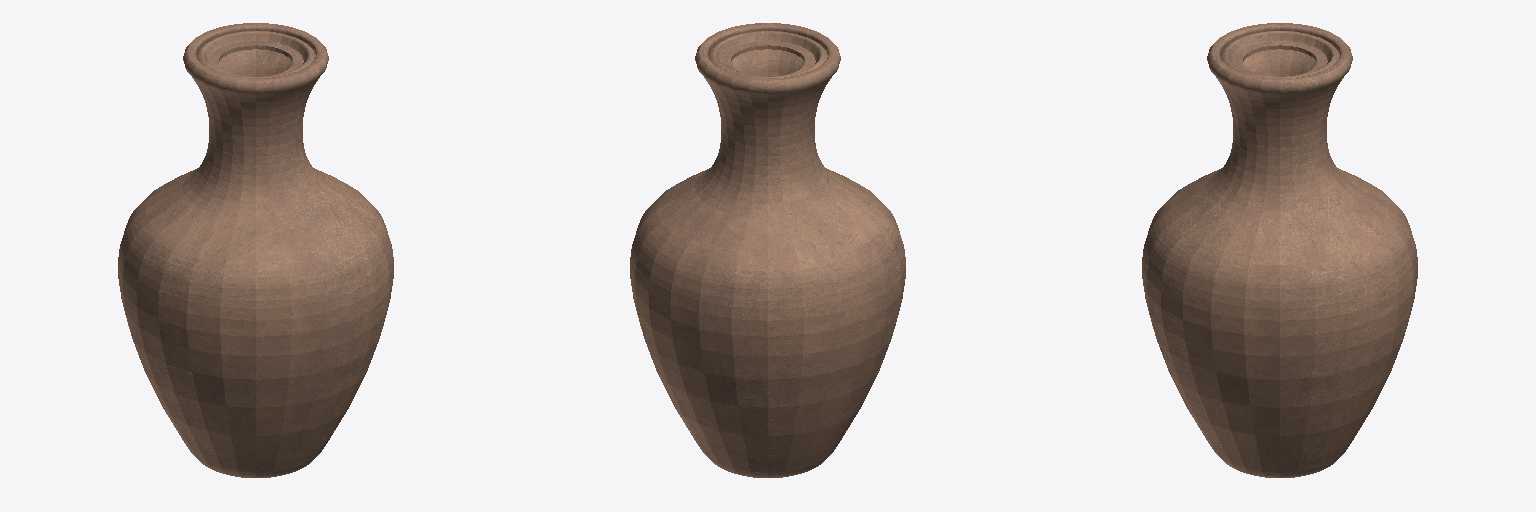
3 views of the same model, side by side, from view 1: azimuth 30°, elevation 25°; view 2: azimuth 150°, elevation 25°; view 3: azimuth 270°, elevation 25° (orthographic).
Visible parts, largest first — view 1: Lathe_NURBS; view 2: Lathe_NURBS; view 3: Lathe_NURBS.
Part boxes in pixels (left/top/right/bottom): Lathe_NURBS: left=118, top=23, right=393, bottom=477; Lathe_NURBS: left=630, top=23, right=905, bottom=477; Lathe_NURBS: left=1142, top=23, right=1417, bottom=477.
Bounding box in the file's own units: 193 × 314 × 193.
1 materials, 1 textured.